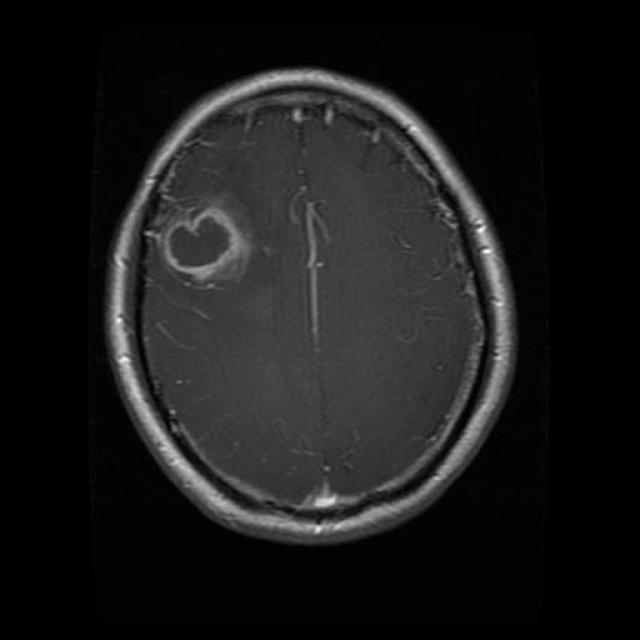glioma: (160, 201, 251, 285)
